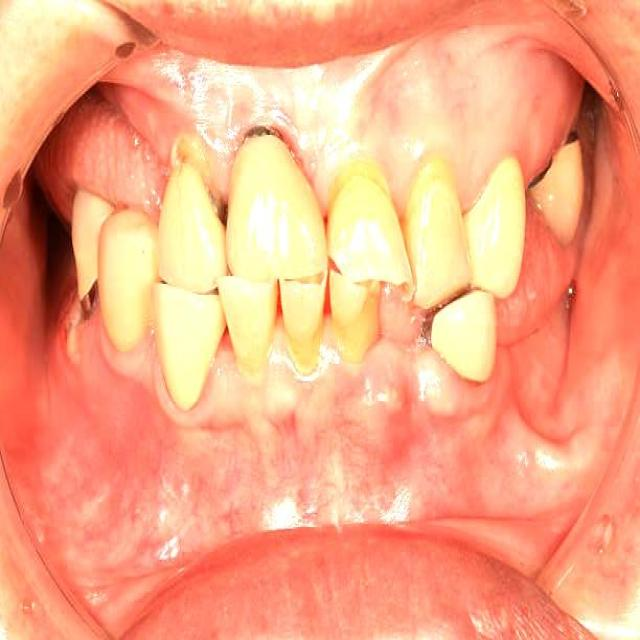caries: (163, 122, 223, 213), (230, 101, 288, 168), (68, 271, 102, 338), (524, 146, 558, 202), (556, 113, 587, 162)
